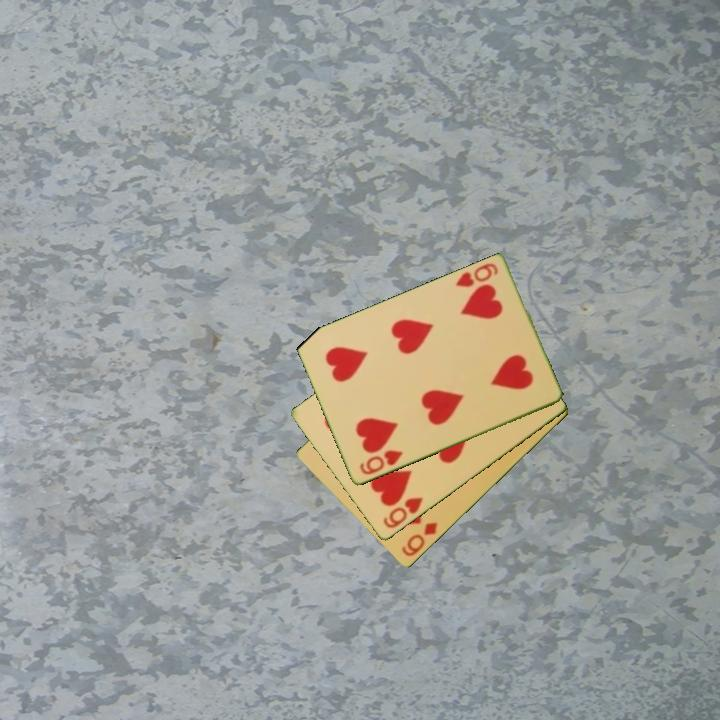6d: (398, 519, 441, 560)
6h: (380, 494, 426, 532), (356, 446, 406, 478), (452, 260, 501, 291)
